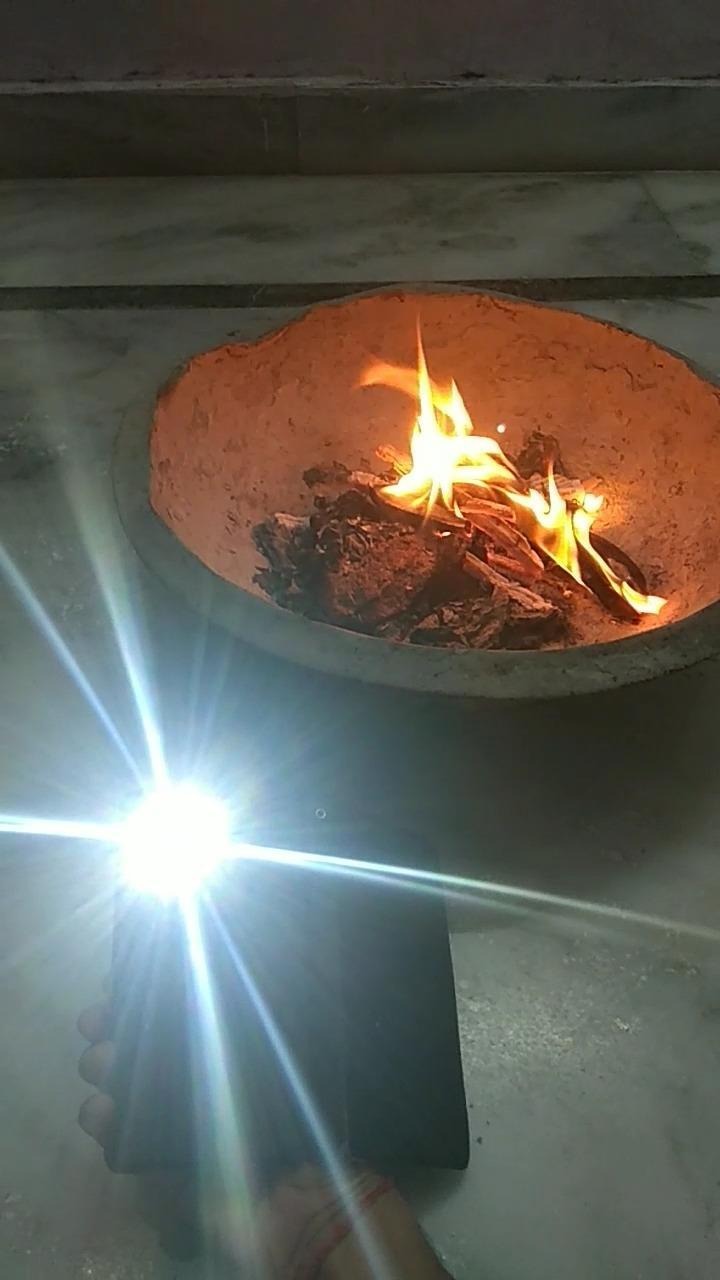fire: (348, 330, 514, 531), (508, 453, 620, 596)
